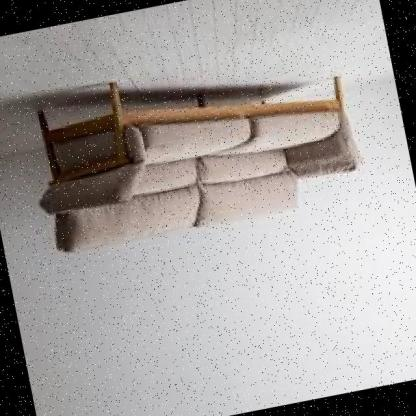Sofa: (8, 38, 395, 283)
